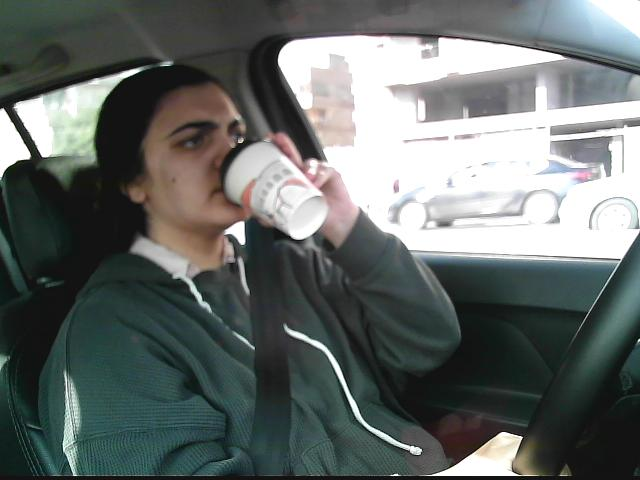Drinking: (222, 132, 333, 245)
